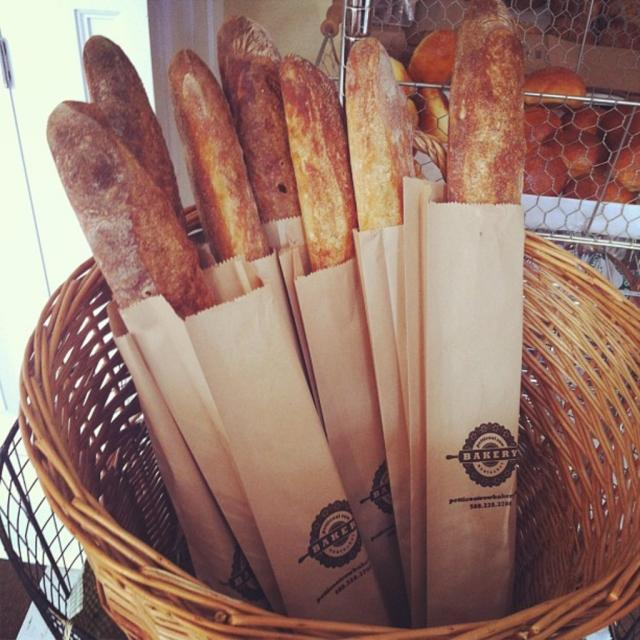Bread: (48, 6, 520, 320), (390, 23, 639, 211), (455, 2, 522, 620), (163, 53, 257, 263)
